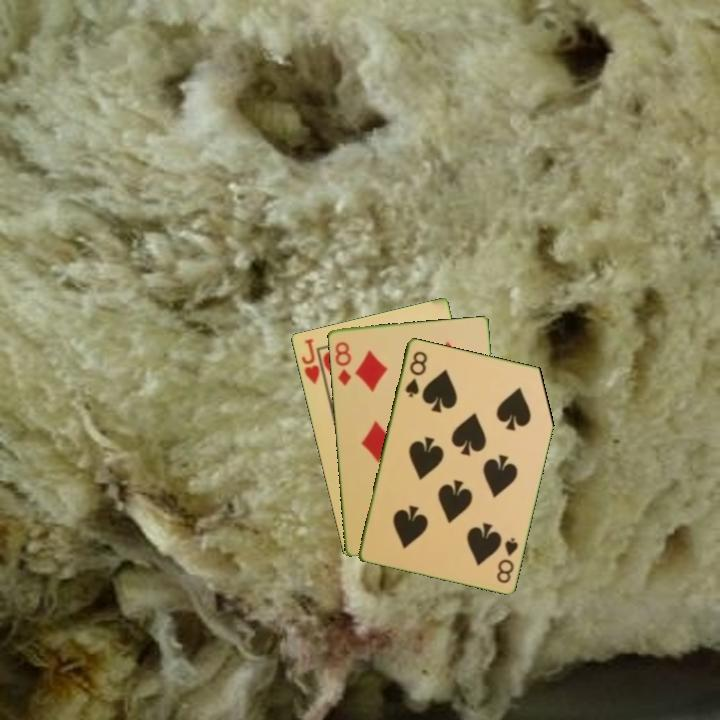8d: (331, 338, 354, 388)
8s: (401, 347, 430, 400), (493, 534, 521, 586)
Jh: (297, 335, 328, 390)
